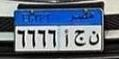6: (16, 27, 26, 50), (36, 28, 46, 48), (26, 28, 36, 48), (48, 28, 57, 48)
alif: (63, 29, 70, 48)
jeem: (73, 28, 87, 49)
noon: (88, 30, 100, 47)
